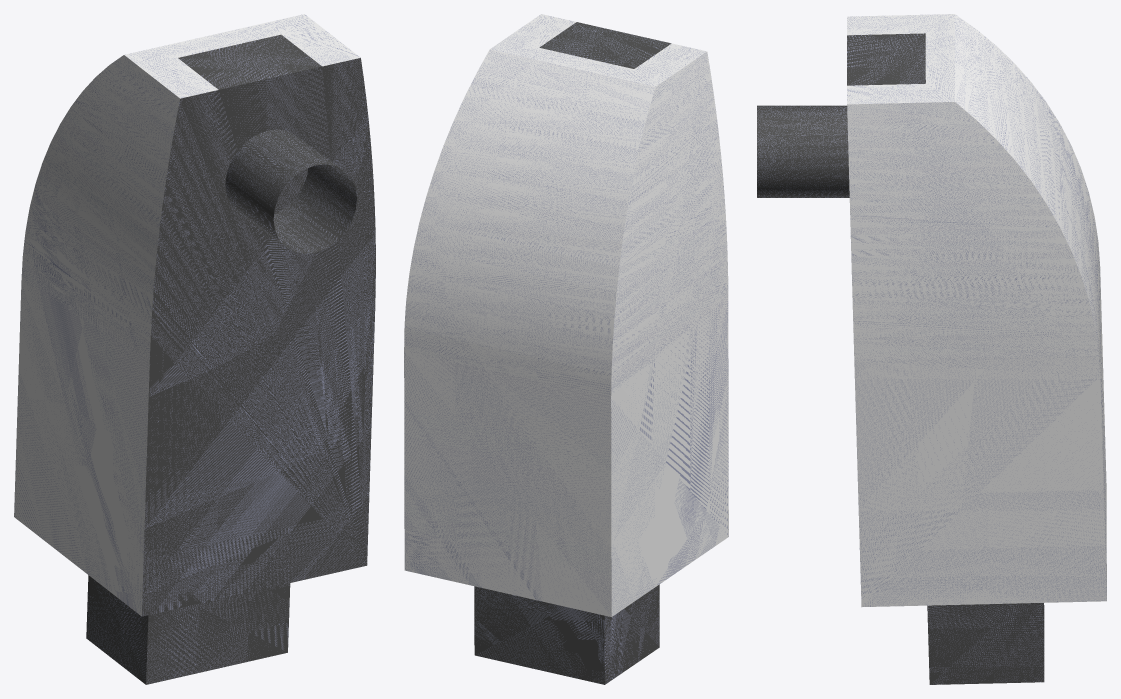
The model's file is RF-up-leg-aibo-ers7.dae.
The picture shows the model from 3 angles, left to right: view 1: azimuth 30°, elevation 25°; view 2: azimuth 150°, elevation 25°; view 3: azimuth 270°, elevation 25°; orthographic projection. The views are drawn at different scales.
Visible parts, largest first — view 1: Component_3 (×4); view 2: Component_3 (×3); view 3: Component_3 (×4).
Boxes of the visible parts, x1,y1,x2,y2 form: Component_3 (×4): (14,14,375,684); Component_3 (×3): (404,14,728,684); Component_3 (×4): (757,14,1106,684).
Bounding box in the file's own units: 10.84 × 14.87 × 28.15.
